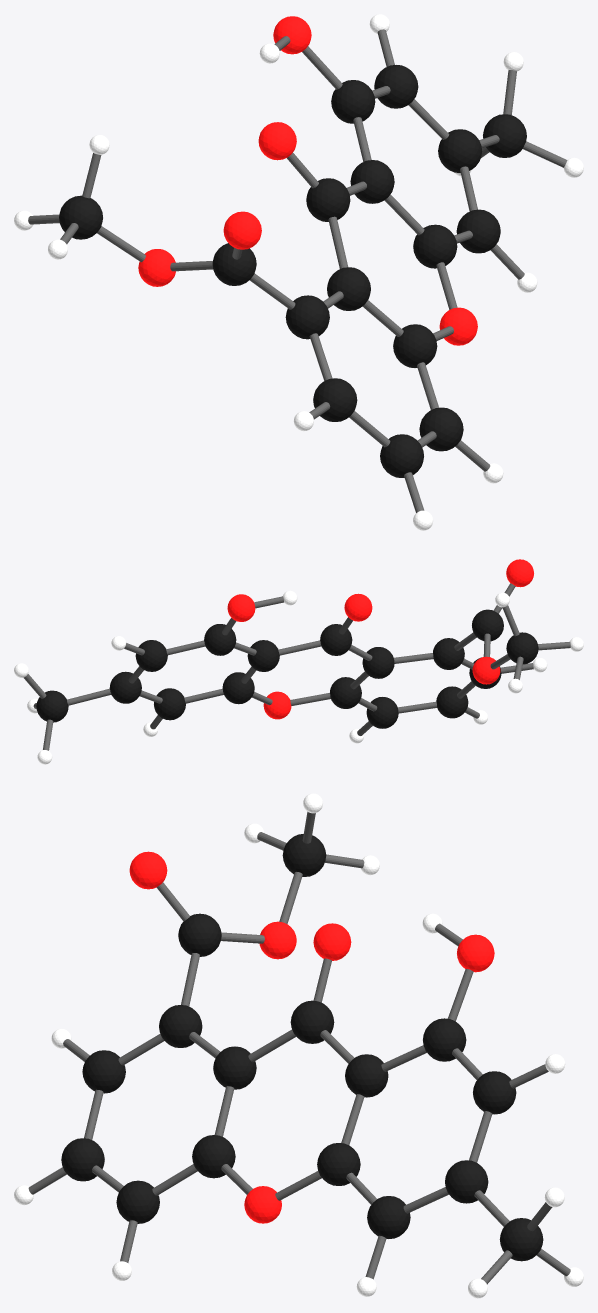
Rendered from molecule.glb.
3 views of the same model, one above another, from view 1: azimuth 30°, elevation 25°; view 2: azimuth 150°, elevation 25°; view 3: azimuth 270°, elevation 25° (orthographic). The views are drawn at different scales.
Parts seen in each view (by area): view 1: geometry_10, geometry_15, geometry_18, geometry_8, geometry_6, geometry_4, geometry_12, geometry_7, geometry_20, geometry_0, geometry_5, geometry_11 (+9 smaller); view 2: geometry_13, geometry_2, geometry_11, geometry_20, geometry_4, geometry_17, geometry_6, geometry_18, geometry_0, geometry_14, geometry_7, geometry_10 (+13 smaller); view 3: geometry_2, geometry_17, geometry_5, geometry_14, geometry_7, geometry_11, geometry_20, geometry_12, geometry_15, geometry_6, geometry_10, geometry_18 (+9 smaller).
Part boxes in pixels (x1,y1,x2,y2): geometry_10: (413,224,457,268); geometry_15: (331,80,375,123); geometry_18: (306,178,350,221); geometry_8: (393,324,437,367); geometry_6: (380,434,423,477); geometry_4: (285,295,329,339); geometry_12: (438,129,482,172); geometry_7: (419,407,463,451); geometry_20: (327,267,370,310); geometry_0: (59,195,102,239); geometry_5: (313,378,357,421); geometry_11: (456,209,500,253); geometry_13: (36,690,68,722); geometry_2: (472,609,503,641); geometry_11: (154,688,185,720); geometry_20: (362,647,394,678); geometry_4: (433,638,464,669); geometry_17: (247,640,279,671); geometry_6: (436,686,468,718); geometry_18: (320,624,352,655); geometry_0: (506,632,538,664); geometry_14: (135,640,167,671); geometry_7: (366,697,398,728); geometry_10: (222,672,254,704); geometry_2: (178,913,221,956); geometry_17: (345,1054,388,1097); geometry_5: (82,1050,125,1093); geometry_14: (473,1071,516,1114); geometry_7: (116,1180,159,1223); geometry_11: (367,1196,410,1238); geometry_20: (213,1046,256,1089); geometry_12: (445,1160,488,1203); geometry_15: (423,1018,466,1061); geometry_6: (61,1138,104,1181); geometry_10: (317,1143,360,1185); geometry_18: (290,1000,334,1043).
Bounding box in the file's own units: 0.257 × 0.1322 × 0.199.
